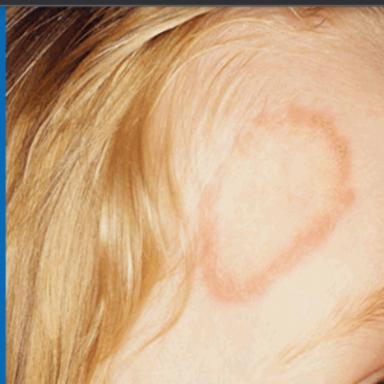Tinea-Corporis: (199, 104, 353, 300)
